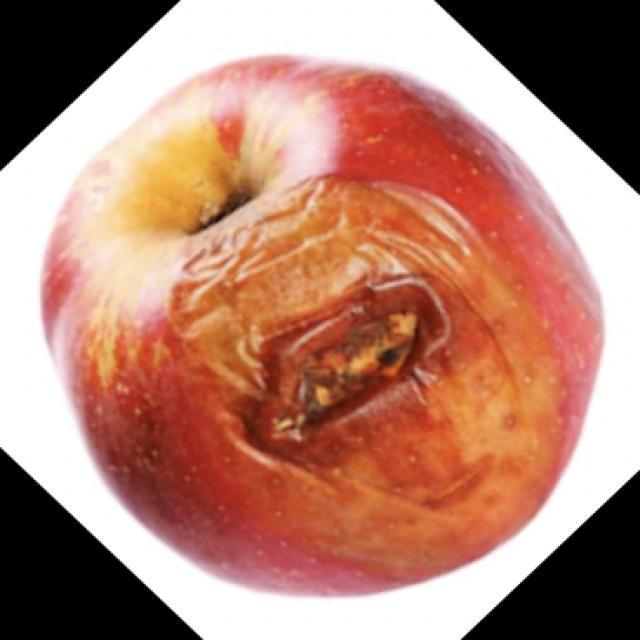Rotten: (75, 60, 590, 570)
